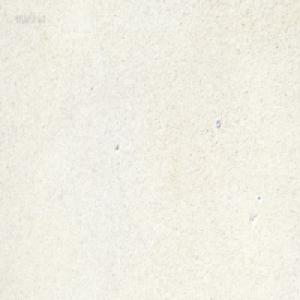Washer: (214, 118, 220, 129)
